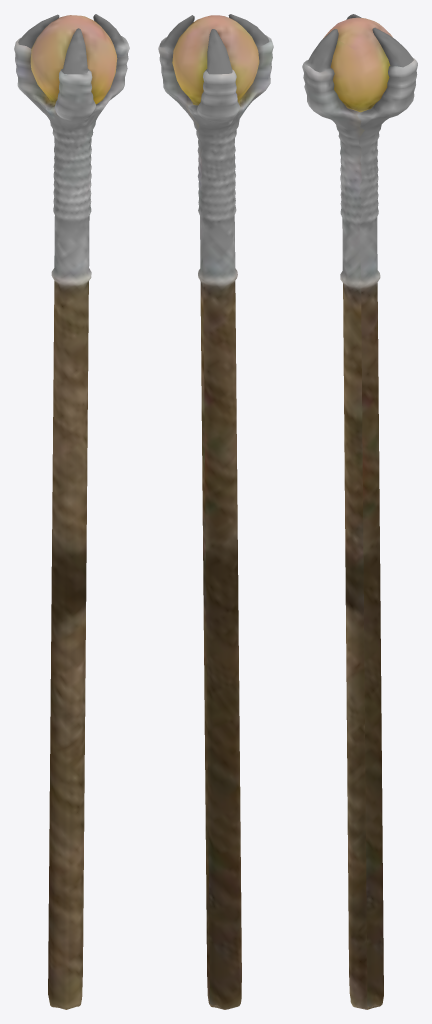
The model's file is Staff_1.glb.
The picture shows the model from 3 angles, left to right: view 1: azimuth 90°, elevation 25°; view 2: azimuth 210°, elevation 25°; view 3: azimuth 270°, elevation 25°; orthographic projection.
Visible parts, largest first — view 1: Mindflayer Infiltrator.003; view 2: Mindflayer Infiltrator.003; view 3: Mindflayer Infiltrator.003.
Boxes of the visible parts, x1=… form: Mindflayer Infiltrator.003: x1=14, y1=14, x2=129, y2=1009; Mindflayer Infiltrator.003: x1=158, y1=14, x2=273, y2=1009; Mindflayer Infiltrator.003: x1=302, y1=14, x2=417, y2=1009.
Size of the model in its own units: 0.2653 by 2.7 by 0.288.
1 material, 1 textured.
